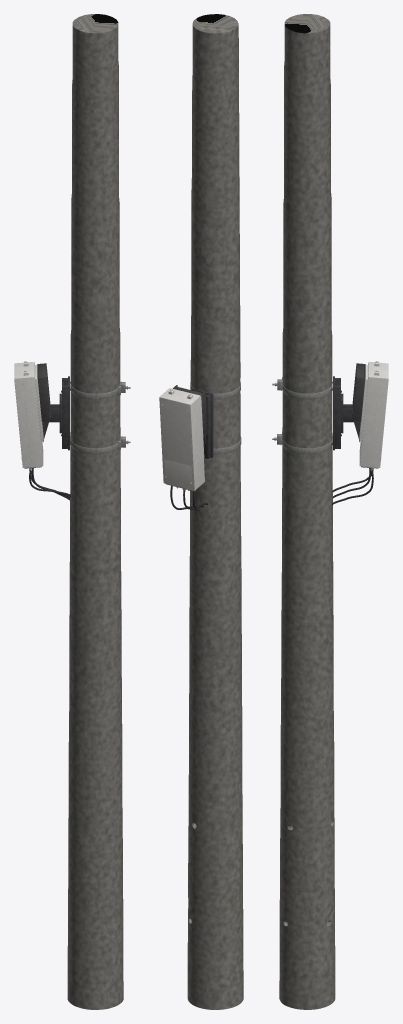
3 renders of one model, left to right at view 1: azimuth 90°, elevation 25°; view 2: azimuth 150°, elevation 25°; view 3: azimuth 270°, elevation 25°, orthographic.
Visible parts, largest first — view 1: Pole_Shaft, Antenna_Body, Cooling_Fins, Mounting_Rail, Band_Top, Band_Bottom; view 2: Pole_Shaft, Antenna_Body, Mounting_Rail, Cooling_Fins, Antenna_Cables; view 3: Pole_Shaft, Antenna_Body, Cooling_Fins, Mounting_Rail, Band_Top, Band_Bottom, Antenna_Cables.
Part boxes in pixels (x1=…): Pole_Shaft: x1=67, y1=14, x2=123, y2=1009; Antenna_Body: x1=14, y1=361, x2=43, y2=467; Cooling_Fins: x1=37, y1=363, x2=50, y2=421; Mounting_Rail: x1=61, y1=376, x2=71, y2=450; Band_Top: x1=70, y1=381, x2=130, y2=399; Band_Bottom: x1=70, y1=436, x2=130, y2=454; Pole_Shaft: x1=187, y1=14, x2=243, y2=1009; Antenna_Body: x1=159, y1=388, x2=204, y2=490; Mounting_Rail: x1=191, y1=388, x2=213, y2=458; Cooling_Fins: x1=173, y1=385, x2=207, y2=437; Antenna_Cables: x1=170, y1=485, x2=207, y2=511; Pole_Shaft: x1=279, y1=14, x2=335, y2=1009; Antenna_Body: x1=359, y1=361, x2=388, y2=467; Cooling_Fins: x1=352, y1=363, x2=365, y2=421; Mounting_Rail: x1=331, y1=376, x2=341, y2=450; Band_Top: x1=272, y1=377, x2=332, y2=399; Band_Bottom: x1=272, y1=432, x2=332, y2=454; Antenna_Cables: x1=332, y1=468, x2=373, y2=504.
Bounding box in the file's own units: 0.6523 × 12.5 × 1.36.
Materials: 8 (8 with a texture image).
